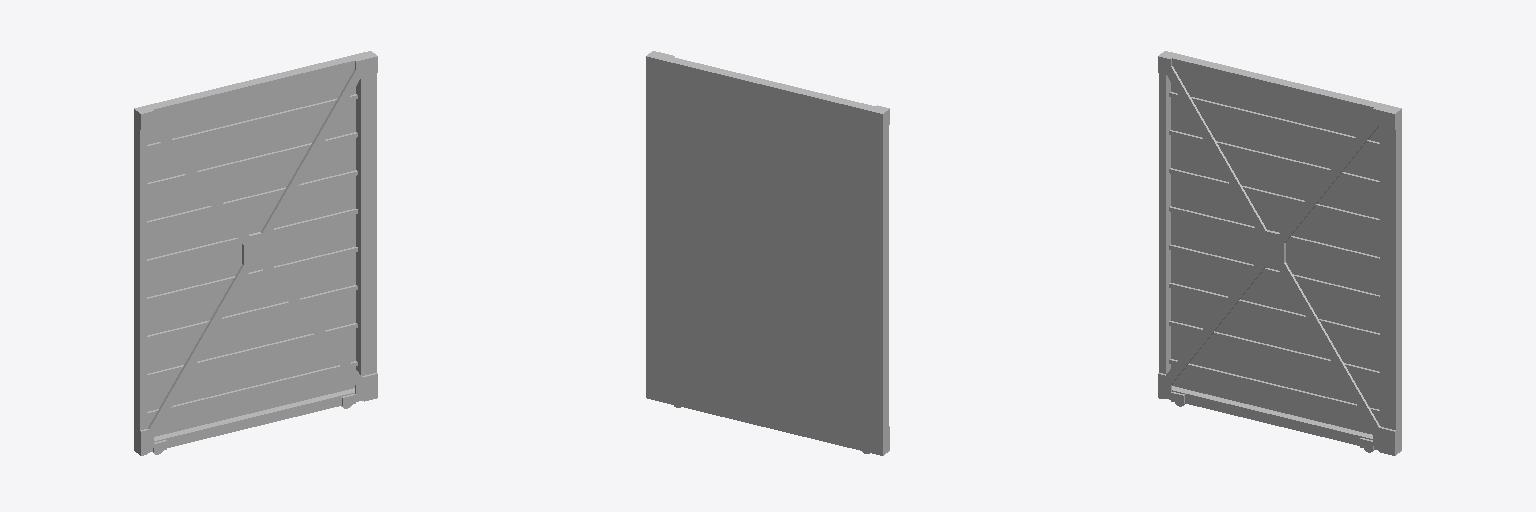
The model's file is b_door_r2.obj.
3 renders of one model, left to right at view 1: azimuth 30°, elevation 25°; view 2: azimuth 150°, elevation 25°; view 3: azimuth 330°, elevation 25°, orthographic.
Bounding box in the file's own units: 1073 × 1502 × 58.95.